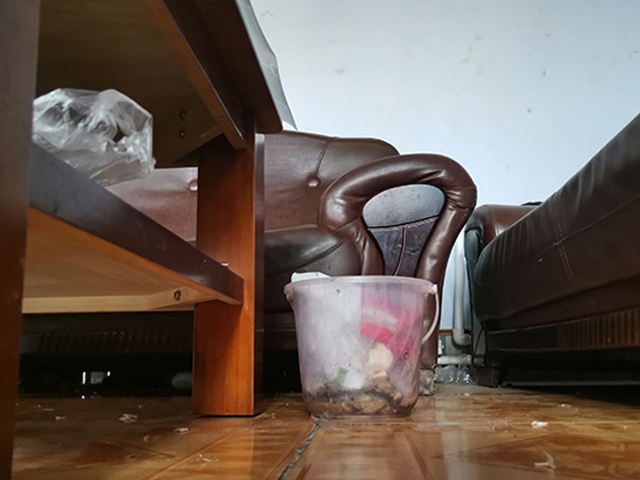sofa: (263, 127, 479, 399), (463, 111, 640, 389)
trashcan: (282, 269, 444, 421)
